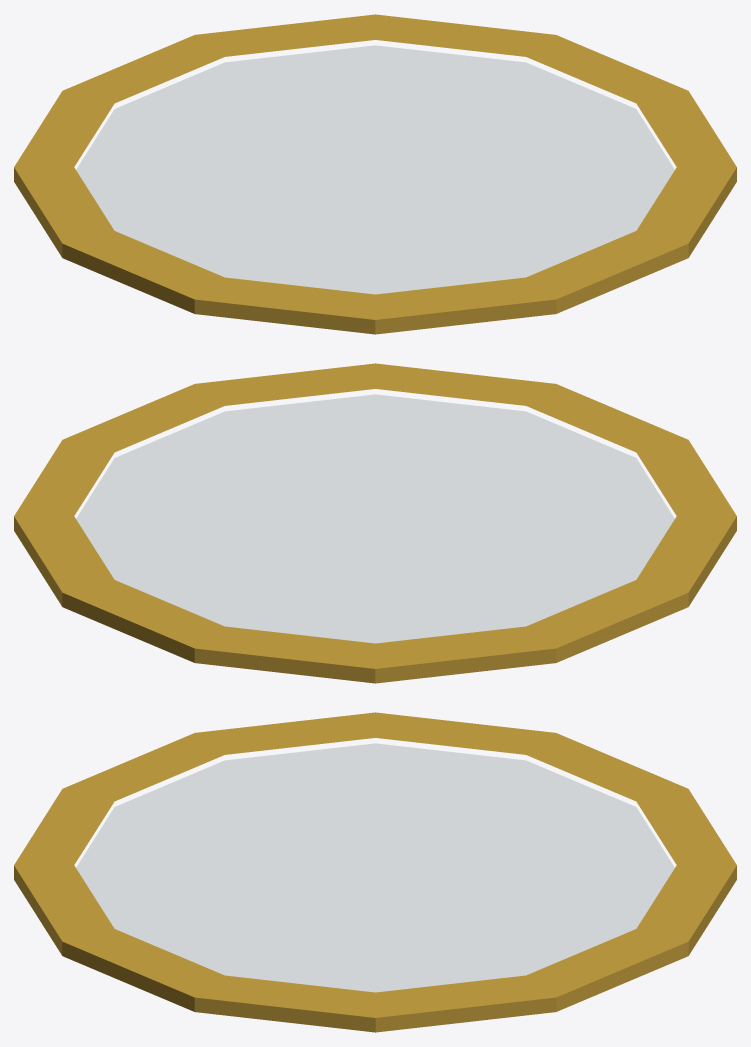
File: parametric-skid_light-1st.glb
The picture shows the model from 3 angles, top to bottom: view 1: azimuth 30°, elevation 25°; view 2: azimuth 150°, elevation 25°; view 3: azimuth 270°, elevation 25°; orthographic projection.
Visible parts, largest first — view 1: parametric-skid_light-1st; view 2: parametric-skid_light-1st; view 3: parametric-skid_light-1st.
Part boxes in pixels (left/top/right/bottom): parametric-skid_light-1st: left=14, top=14, right=736, bottom=334; parametric-skid_light-1st: left=14, top=363, right=736, bottom=683; parametric-skid_light-1st: left=14, top=712, right=736, bottom=1032.
Size of the model in its own units: 0.36 by 0.008 by 0.36.
